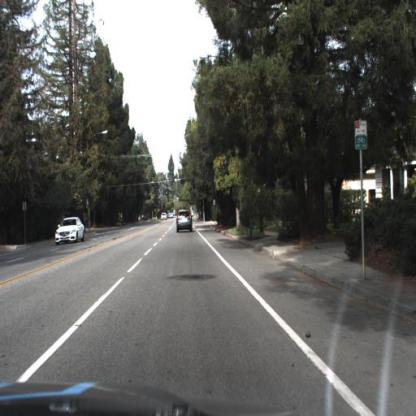car: (53, 212, 90, 248), (54, 215, 84, 246), (175, 209, 195, 235)
